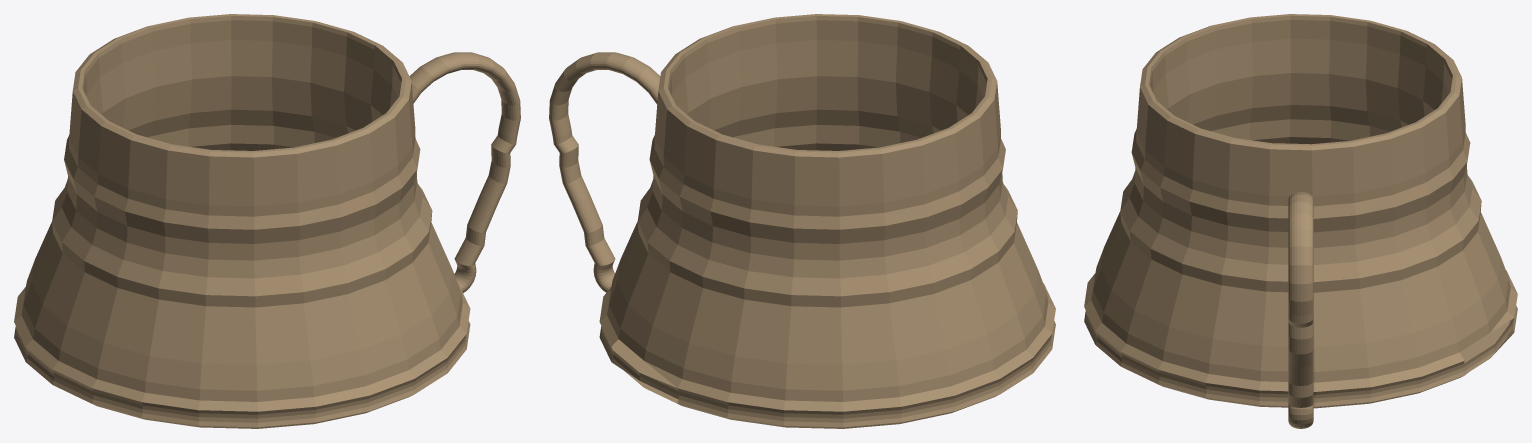
3 renders of one model, left to right at view 1: azimuth 30°, elevation 25°; view 2: azimuth 150°, elevation 25°; view 3: azimuth 270°, elevation 25°, orthographic. The views are drawn at different scales.
Visible parts, largest first — view 1: mesh3_mesh3-geometry, mesh1_mesh1-geometry; view 2: mesh3_mesh3-geometry, mesh1_mesh1-geometry; view 3: mesh3_mesh3-geometry, mesh1_mesh1-geometry.
Part boxes in pixels (bbox=[...]): mesh3_mesh3-geometry: bbox=[14, 14, 470, 428]; mesh1_mesh1-geometry: bbox=[409, 52, 520, 292]; mesh3_mesh3-geometry: bbox=[599, 14, 1055, 428]; mesh1_mesh1-geometry: bbox=[549, 52, 660, 292]; mesh3_mesh3-geometry: bbox=[1084, 14, 1517, 408]; mesh1_mesh1-geometry: bbox=[1288, 192, 1313, 428].
Size of the model in its own units: 0.7112 by 0.3769 by 0.5934.
